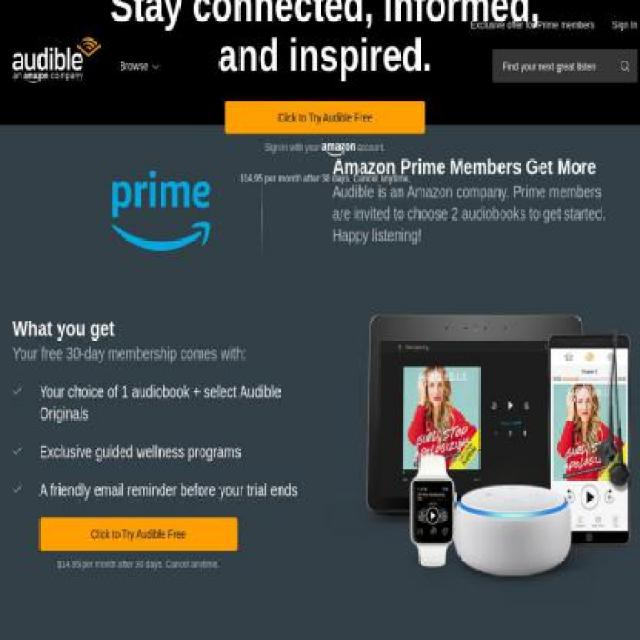button: (225, 100, 424, 134), (39, 517, 238, 551), (12, 38, 100, 82)
field: (492, 50, 638, 82)
